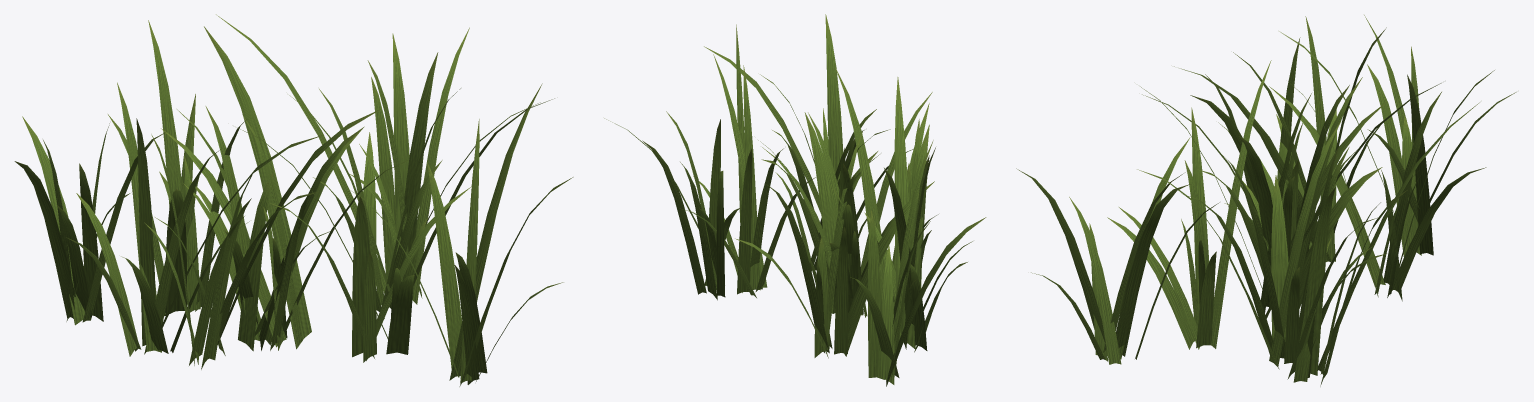
The model's file is Bentgrass_A.fbx.
3 renders of one model, left to right at view 1: azimuth 30°, elevation 25°; view 2: azimuth 150°, elevation 25°; view 3: azimuth 270°, elevation 25°, orthographic. The views are drawn at different scales.
Visible parts, largest first — view 1: Bentgrass_A_LOD0; view 2: Bentgrass_A_LOD0; view 3: Bentgrass_A_LOD0.
Part boxes in pixels (x1=…): Bentgrass_A_LOD0: x1=14, y1=14, x2=573, y2=386; Bentgrass_A_LOD0: x1=604, y1=14, x2=986, y2=386; Bentgrass_A_LOD0: x1=1016, y1=15, x2=1516, y2=386.
Size of what is drawn, in the model's own units: 24.94 by 13.27 by 24.41.
Materials: 1 (1 with a texture image).
